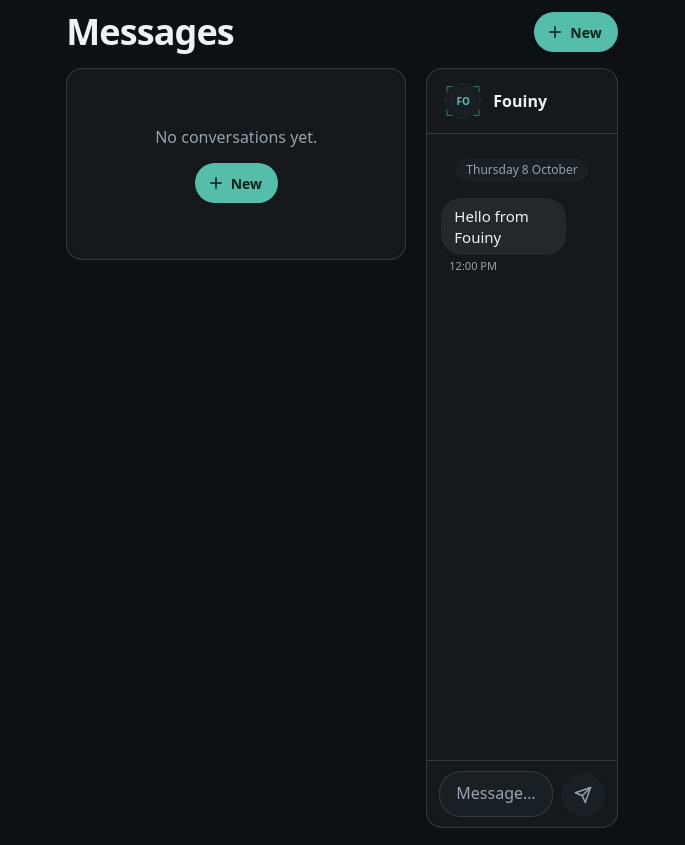
Scenario: keeps the draft and reuses its retry key after a failed send
The image size is (685, 845).
Expected: the text "Hello from Fouiny" is shown, [454,206,533,247]
In the text box named "Your message": (496, 794) [439,771,553,817], type "Hello Fanny"
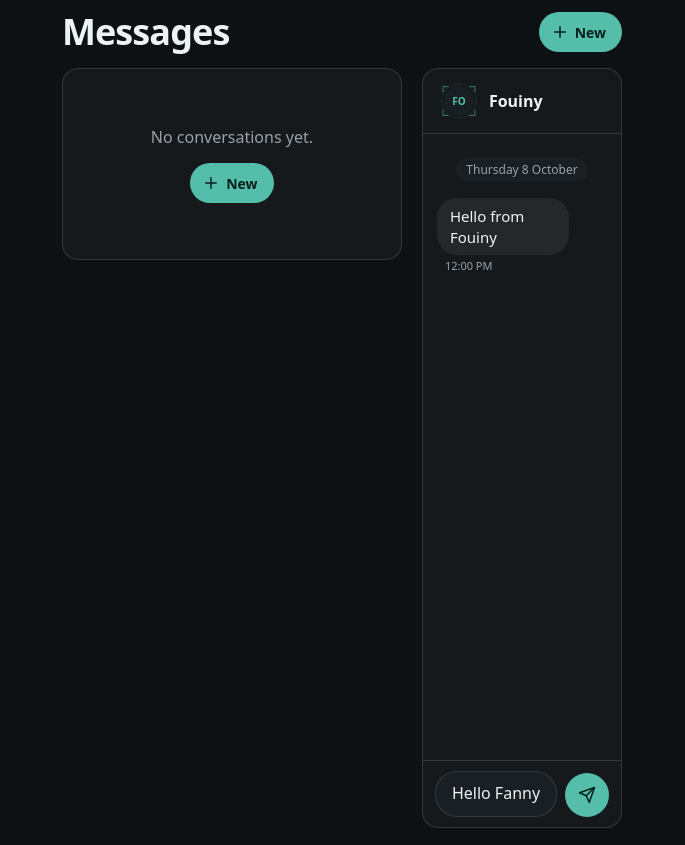
Click the button named "Send": click(587, 795) [565,773,609,817]
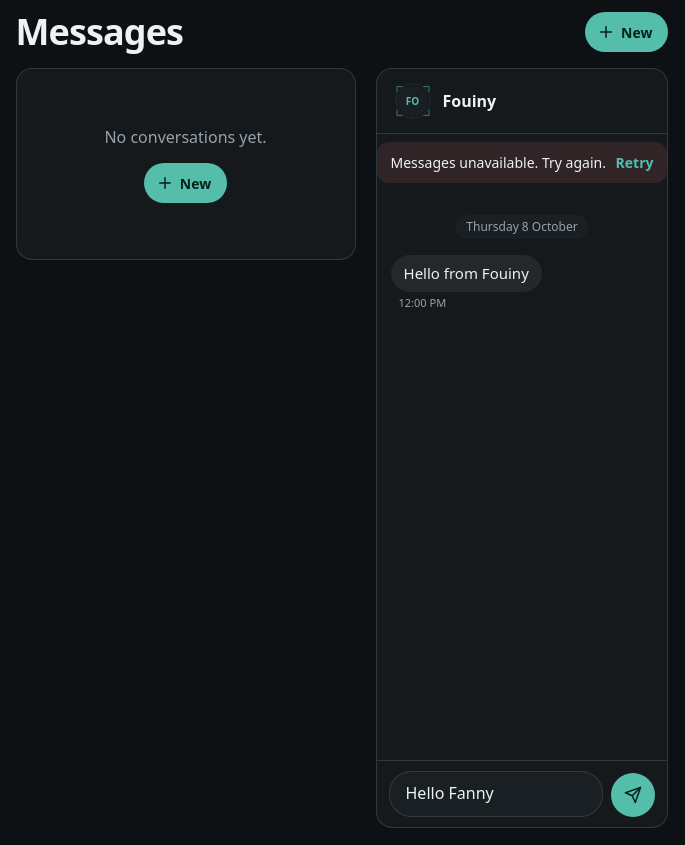
Result: the message "Messages unavailable. Try again. Retry" is shown at [376,142,668,183]
Click the button named "Send": click(634, 795) [612,773,656,817]
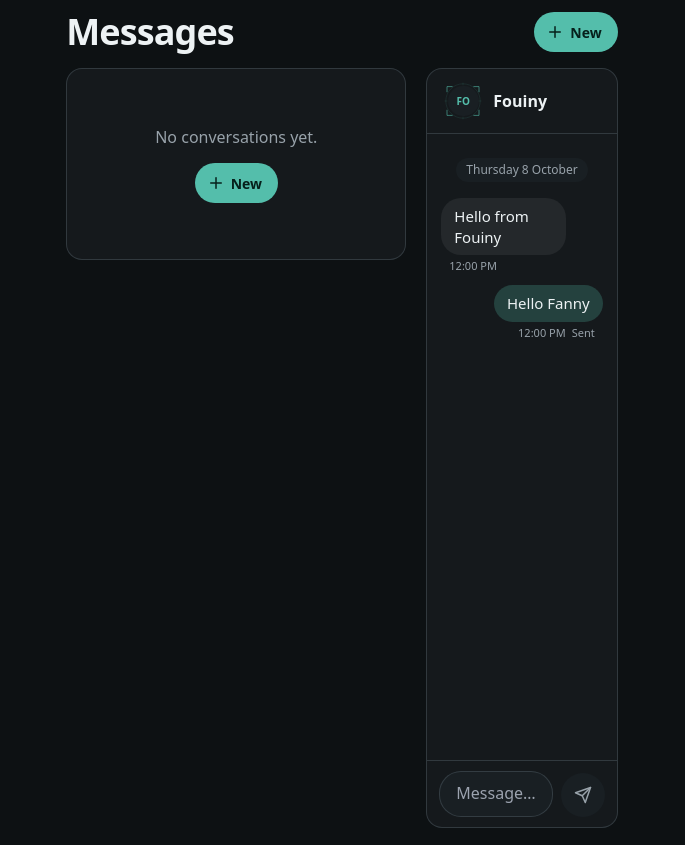
Result: the text "Hello Fanny" is shown at [507,293,590,314]
Result: the text box "Hello Fanny" is empty at [439,771,553,817]
Result: the text "Sent" is shown at [572,325,595,341]
